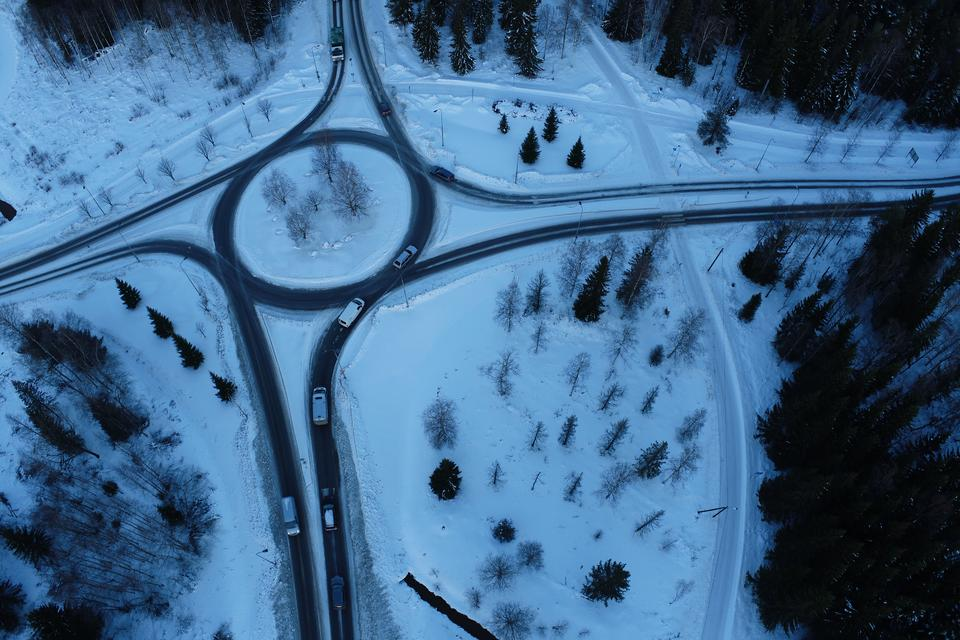intersection: (623, 142, 708, 259), (285, 53, 419, 110)
roundabout: (199, 116, 450, 329)
